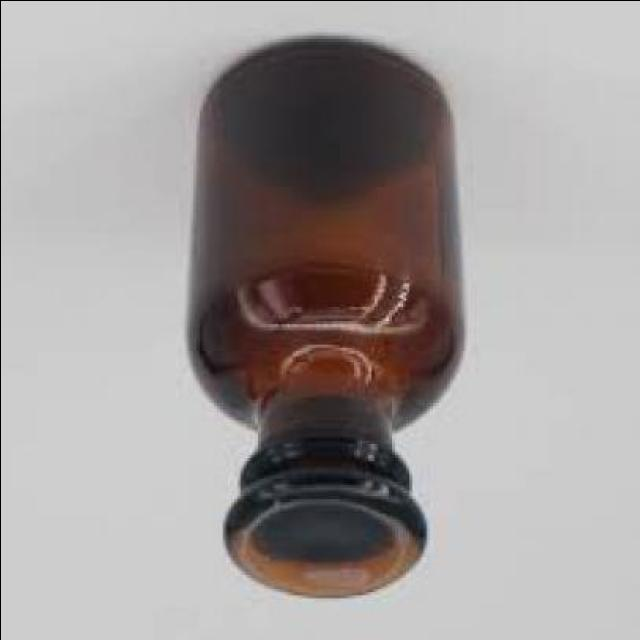kaca: (184, 38, 466, 600)
